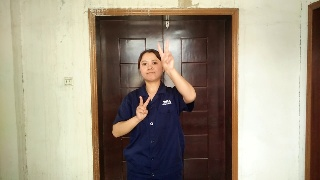hand: (157, 38, 175, 72), (136, 96, 150, 121)
